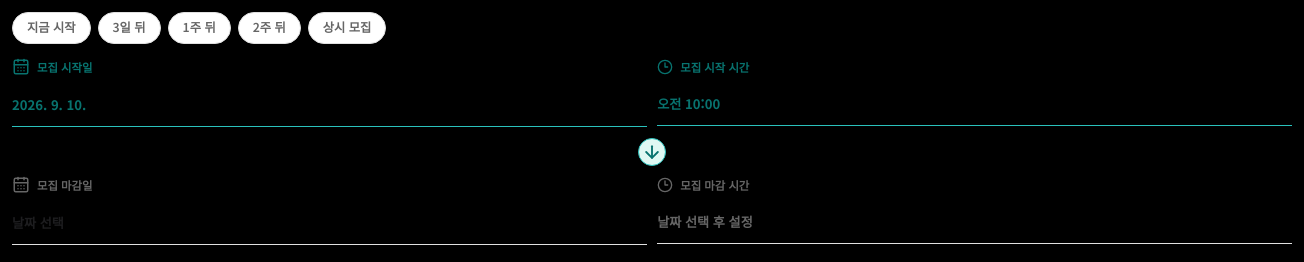
Test: DateRangePicker › Given an edited start, When now is selected, Then the start resets to the current local minute
Click the button "지금 시작" at x=51, y=28, box [12,12,90,44]
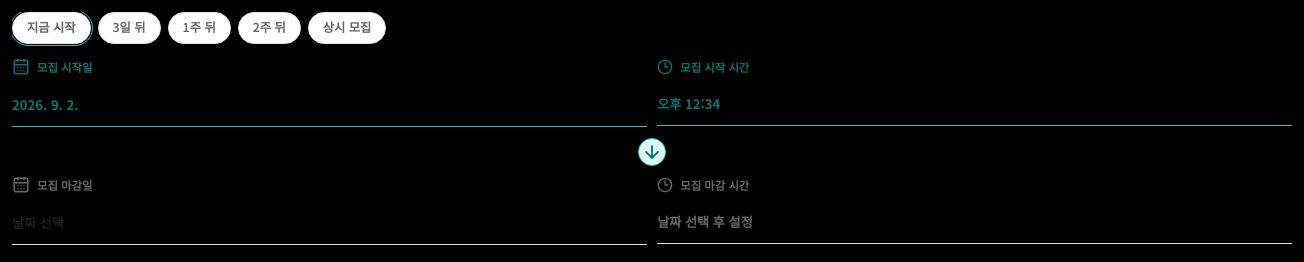
Expected: the button named "모집 시작일 선택" reads "2026. 9. 2.", [12,83,647,127]
Expected: the button with aria-label "모집 시작 시간 선택" reads "오후 12:34", [657,82,1292,126]
